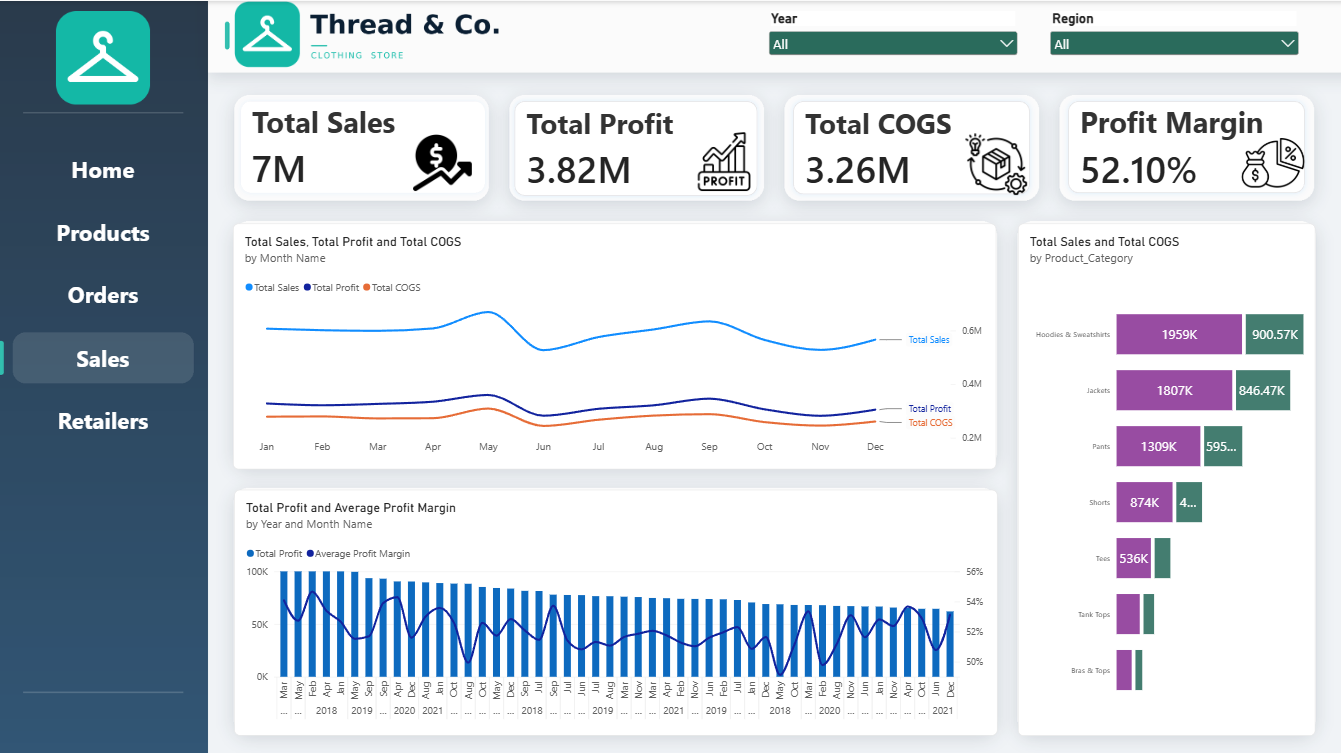

The dashboard page shown, as its layout file describes it:
{"tool":"powerbi","page":{"name":"Sales","canvas":[1920,1080],"ordinal":3},"visuals":[{"type":"slicer","fields":{"Values":["Retailers.Region"]},"box":[1497.5,14.4,364.9,80.9],"z":0},{"type":"image","box":[50,14.3,200,133.9],"z":1000},{"type":"image","box":[335.9,0,382,94.8],"z":2000},{"type":"slicer","fields":{"Values":["Calendar.Year"]},"box":[1097.2,15.1,364.9,80.9],"z":3000},{"type":"cardVisual","fields":{"Data":["Measures (3).Total Sales"]},"box":[335.7,132.1,371.4,153.6],"z":4000},{"type":"cardVisual","fields":{"Data":["Measures (3).Total Profit"]},"box":[726.8,132.1,369.6,157.1],"z":5000},{"type":"cardVisual","fields":{"Data":["Measures (3).Total COGS"]},"box":[1125,132.1,360.7,155.4],"z":6000},{"type":"cardVisual","fields":{"Data":["Measures (3).Average Profit Margin"]},"box":[1517.9,132.1,360.7,153.6],"z":7000},{"type":"image","box":[978.6,187.5,117.9,83.9],"z":8000},{"type":"image","box":[1764.3,183.9,114.3,94.6],"z":9000},{"type":"image","box":[1366.1,187.5,119.6,91.1],"z":10000},{"type":"image","box":[585.7,187.5,98.2,83.9],"z":11000},{"type":"shape","box":[50,210,200,59],"z":12000},{"type":"shape","box":[50,390,200,59],"z":13000},{"type":"shape","box":[50,570,200,59],"z":14000},{"type":"shape","box":[50,480,200,59],"z":15000},{"type":"lineChart","fields":{"Category":["Calendar.Month Name","Calendar.Year"],"Y2":["Measures (3).Total Sales","Measures (3).Total Profit","Measures (3).Total COGS"]},"box":[336.1,317.6,1090,351],"z":16000},{"type":"lineClusteredColumnComboChart","fields":{"Category":["Calendar.Year","Calendar.Month Name"],"Y":["Measures (3).Total Profit"],"Y2":["Measures (3).Average Profit Margin"]},"box":[337,699,1090,351],"z":17000},{"type":"barChart","fields":{"Category":["Products.Product_Category"],"Y":["Measures (3).Total Sales","Measures (3).Total COGS"]},"box":[1457,318,425,732],"z":18000},{"type":"shape","box":[50,300,200,59],"z":19000}]}

Visuals, with their boxes on the page's 1920x1080 design canvas (x1, y1, x2, y2). These are canvas units, not pixel positions in the 1341x753 screenshot, which may show the page scaled, cropped or inside an application window:
slicer - Retailers.Region: (left=1498, top=14, right=1862, bottom=95)
image: (left=50, top=14, right=250, bottom=148)
image: (left=336, top=0, right=718, bottom=95)
slicer - Calendar.Year: (left=1097, top=15, right=1462, bottom=96)
cardVisual - Measures (3).Total Sales: (left=336, top=132, right=707, bottom=286)
cardVisual - Measures (3).Total Profit: (left=727, top=132, right=1096, bottom=289)
cardVisual - Measures (3).Total COGS: (left=1125, top=132, right=1486, bottom=288)
cardVisual - Measures (3).Average Profit Margin: (left=1518, top=132, right=1879, bottom=286)
image: (left=979, top=188, right=1096, bottom=271)
image: (left=1764, top=184, right=1879, bottom=278)
image: (left=1366, top=188, right=1486, bottom=279)
image: (left=586, top=188, right=684, bottom=271)
shape: (left=50, top=210, right=250, bottom=269)
shape: (left=50, top=390, right=250, bottom=449)
shape: (left=50, top=570, right=250, bottom=629)
shape: (left=50, top=480, right=250, bottom=539)
lineChart - Calendar.Month Name x Calendar.Year: (left=336, top=318, right=1426, bottom=669)
lineClusteredColumnComboChart - Calendar.Year x Calendar.Month Name: (left=337, top=699, right=1427, bottom=1050)
barChart - Products.Product_Category x Measures (3).Total Sales: (left=1457, top=318, right=1882, bottom=1050)
shape: (left=50, top=300, right=250, bottom=359)
